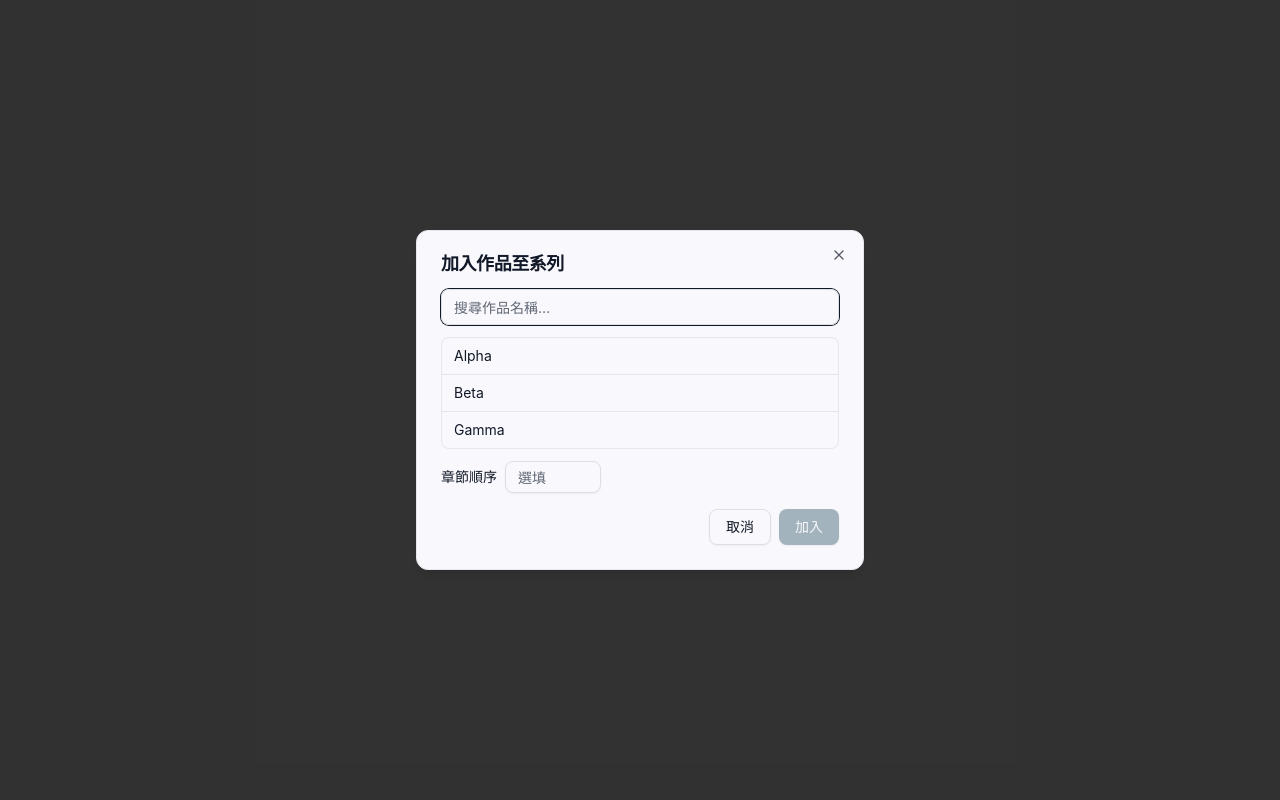
Test: search filter › filters list by search text (case-insensitive)
This screenshot has width=1280, height=800.
Type "alp" into the field labelled "搜尋作品" at (640, 307), box [441,289,839,325]
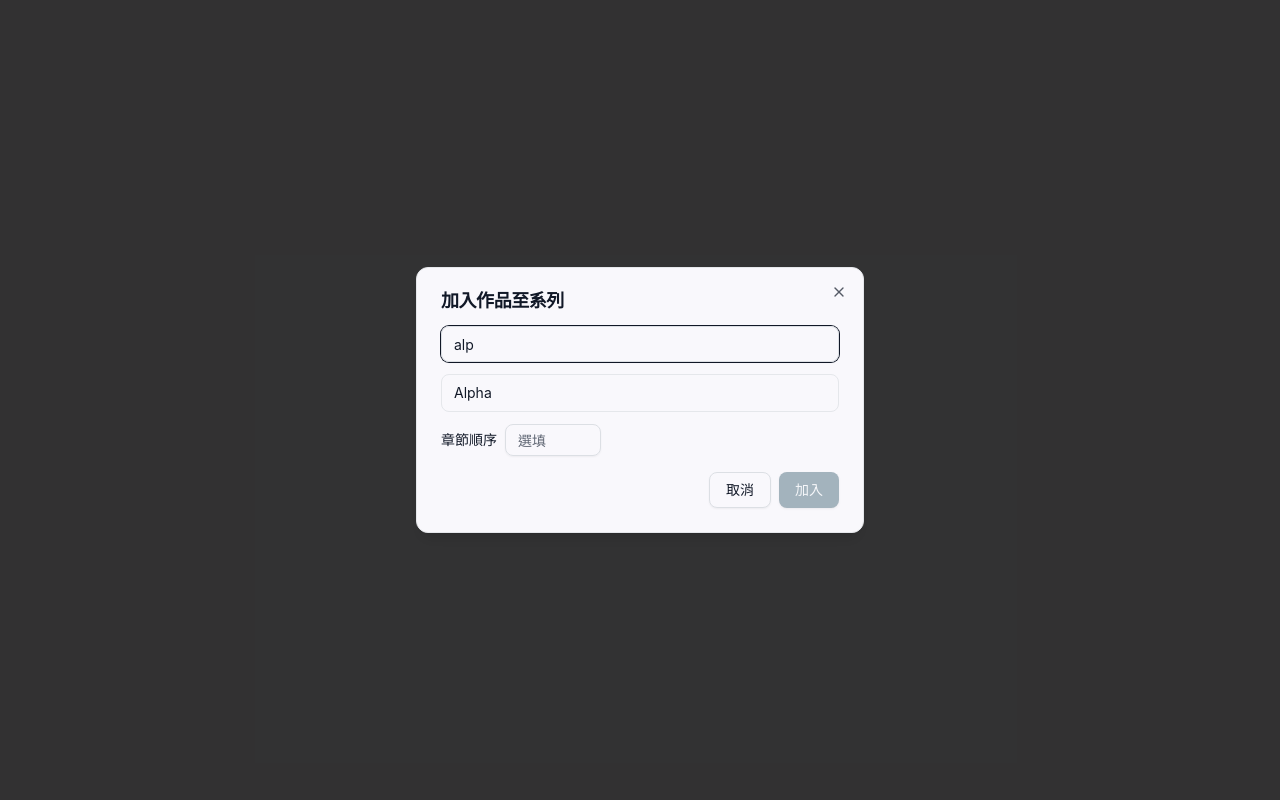
Check: the option "Alpha" is shown, box [442,375,838,411]
Check: the option "Beta" is gone
